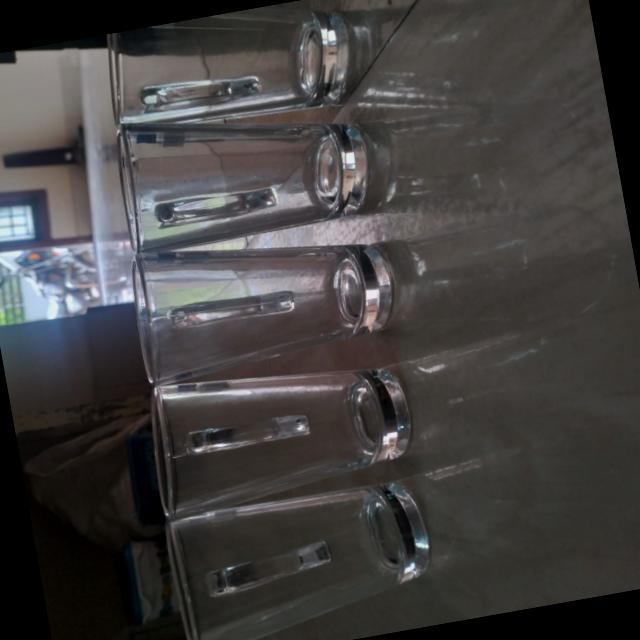glass-VX4N: (108, 80, 398, 261), (124, 209, 410, 386), (142, 338, 422, 517), (164, 468, 443, 640), (94, 0, 359, 146)
